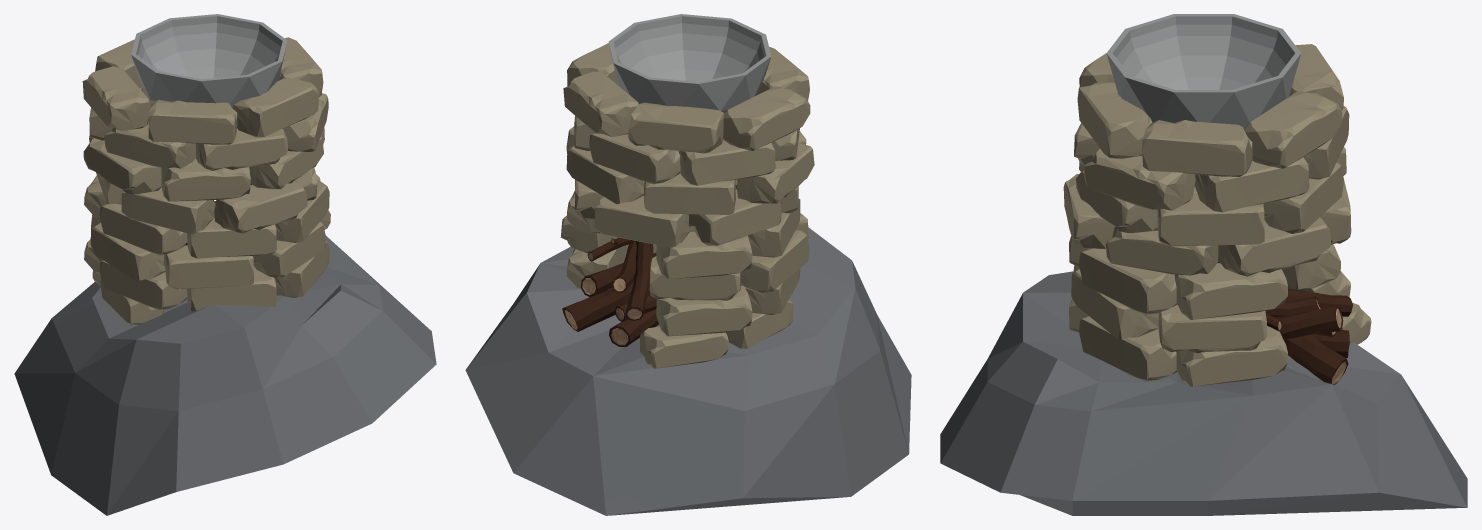
File: Forge.fbx
The picture shows the model from 3 angles, left to right: view 1: azimuth 30°, elevation 25°; view 2: azimuth 150°, elevation 25°; view 3: azimuth 270°, elevation 25°; orthographic projection. The views are drawn at different scales.
Parts seen in each view (by area): view 1: Cylinder.041; view 2: Cylinder.041; view 3: Cylinder.041.
Part boxes in pixels (x1,y1,x2,y2): Cylinder.041: (14, 14, 436, 515); Cylinder.041: (465, 14, 911, 515); Cylinder.041: (940, 14, 1467, 515).
Bounding box in the file's own units: 1.17 × 1.35 × 1.35.
